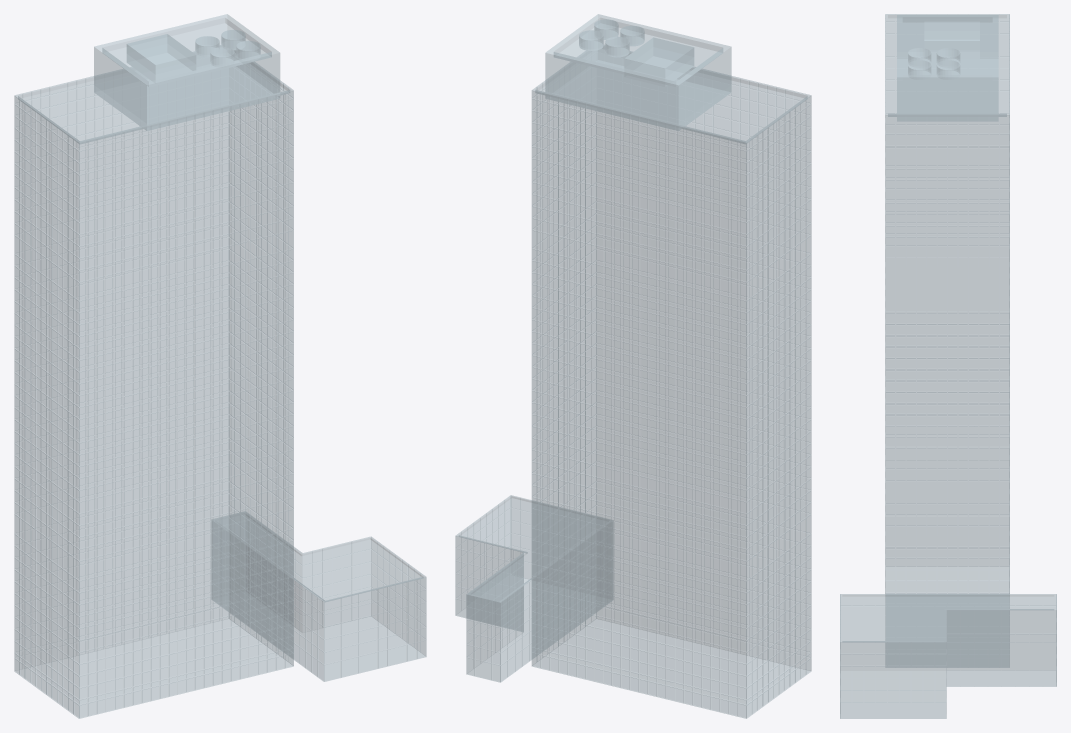
Rendered from 919_Thrid_001.glb.
3 views of the same model, side by side, from view 1: azimuth 30°, elevation 25°; view 2: azimuth 150°, elevation 25°; view 3: azimuth 270°, elevation 25° (orthographic). The views are drawn at different scales.
Visible parts, largest first — view 1: 919_Thrid.obj; view 2: 919_Thrid.obj; view 3: 919_Thrid.obj.
Part boxes in pixels (bbox=[...]): 919_Thrid.obj: bbox=[14, 14, 426, 718]; 919_Thrid.obj: bbox=[455, 14, 811, 718]; 919_Thrid.obj: bbox=[840, 14, 1056, 718].
Size of the model in its own units: 1.04 by 1.9 by 0.63.
